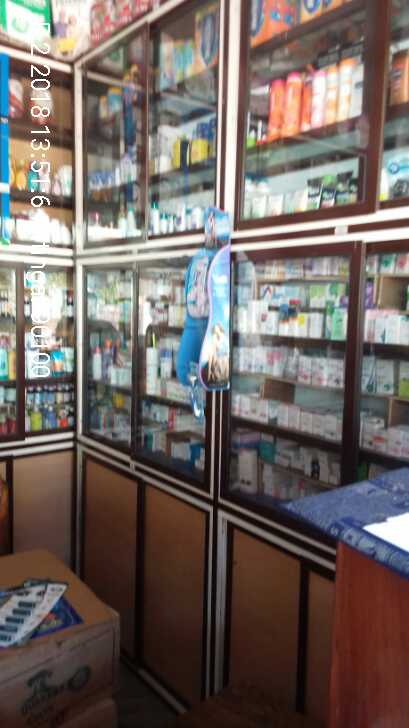reject: (122, 93, 231, 210)
